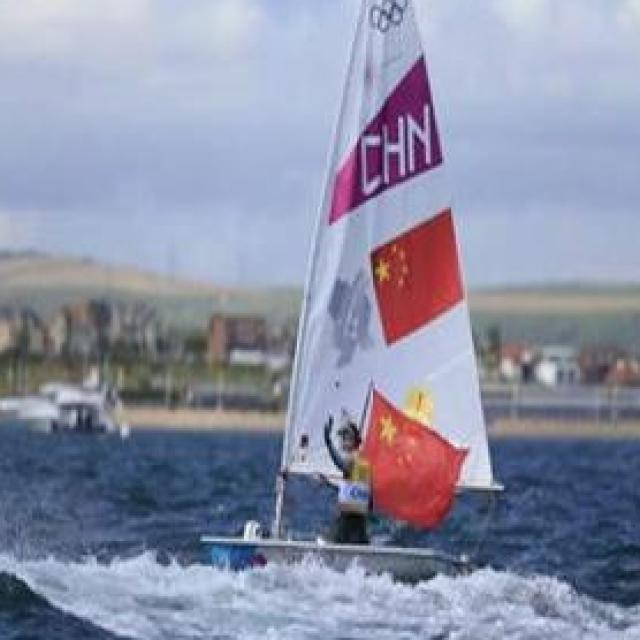sailboat: (198, 0, 495, 573)
